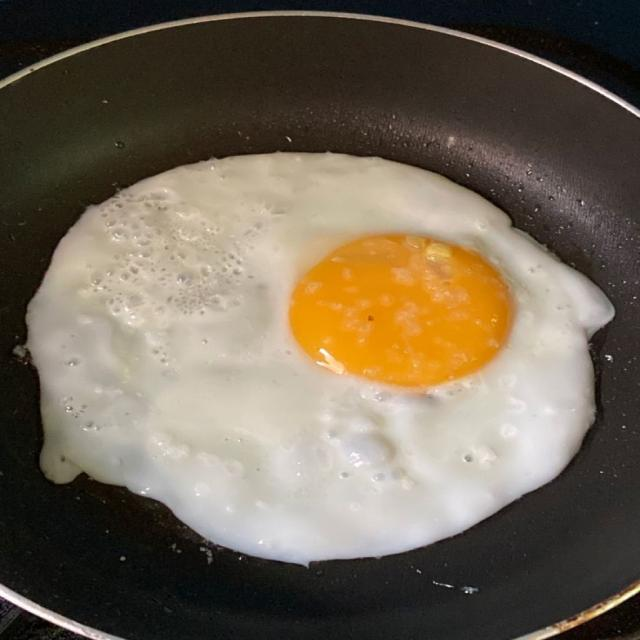fryed egg: (27, 154, 613, 563)
